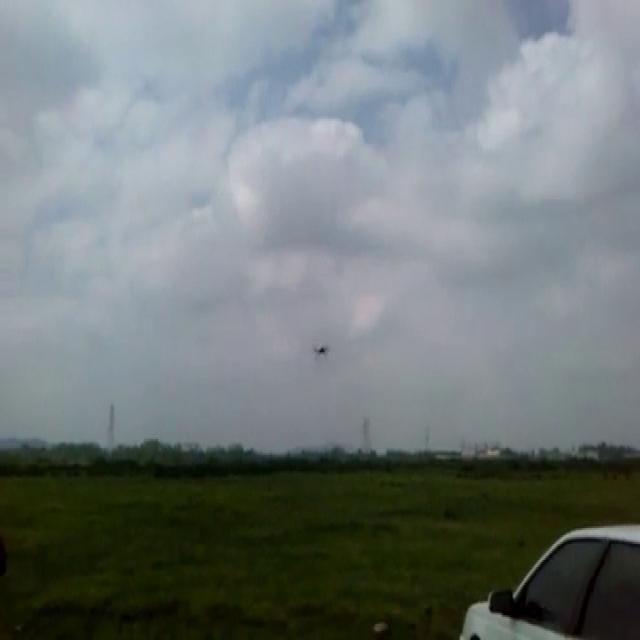drone: (312, 340, 331, 359)
